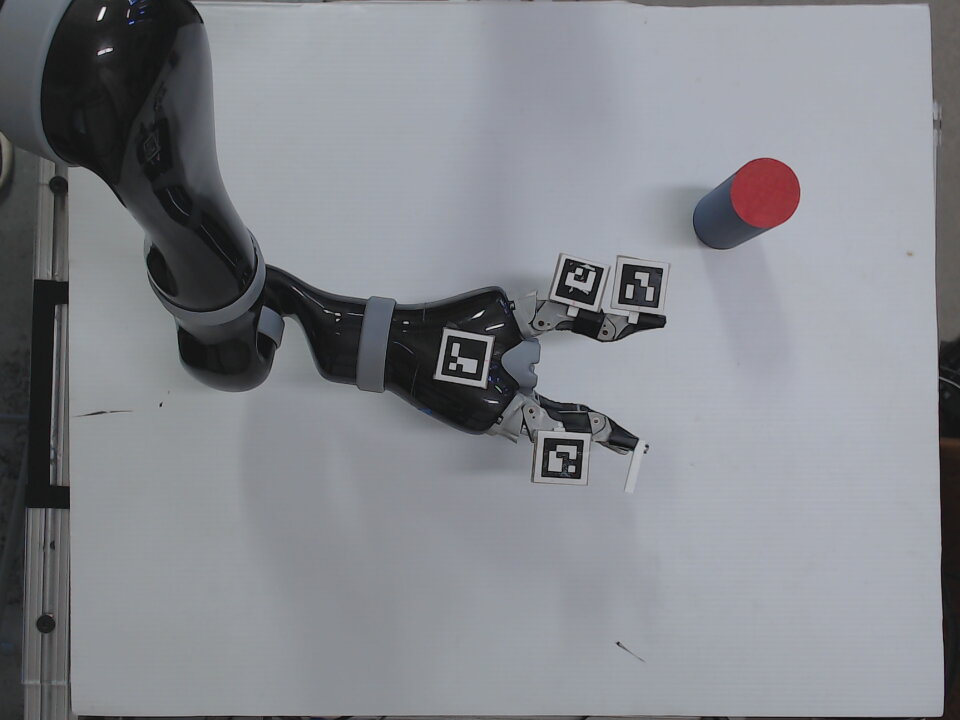cylinder: (691, 156, 803, 252)
